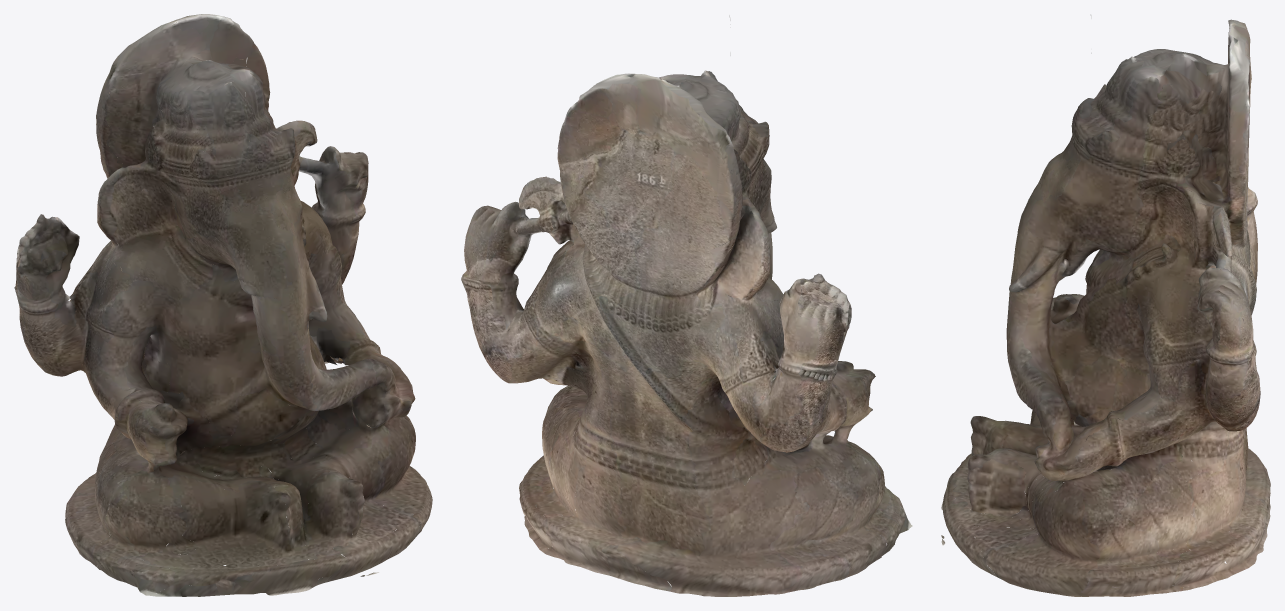
File: ganesh_new.glb
3 renders of one model, left to right at view 1: azimuth 30°, elevation 25°; view 2: azimuth 150°, elevation 25°; view 3: azimuth 270°, elevation 25°, orthographic. The views are drawn at different scales.
Parts seen in each view (by area): view 1: Object_2; view 2: Object_2; view 3: Object_2.
Part boxes in pixels (x1,y1,x2,y2): Object_2: [14, 14, 432, 596]; Object_2: [461, 15, 912, 596]; Object_2: [941, 14, 1270, 596].
Bounding box in the file's own units: 1.12 × 1.44 × 0.861.
1 material, 1 textured.
